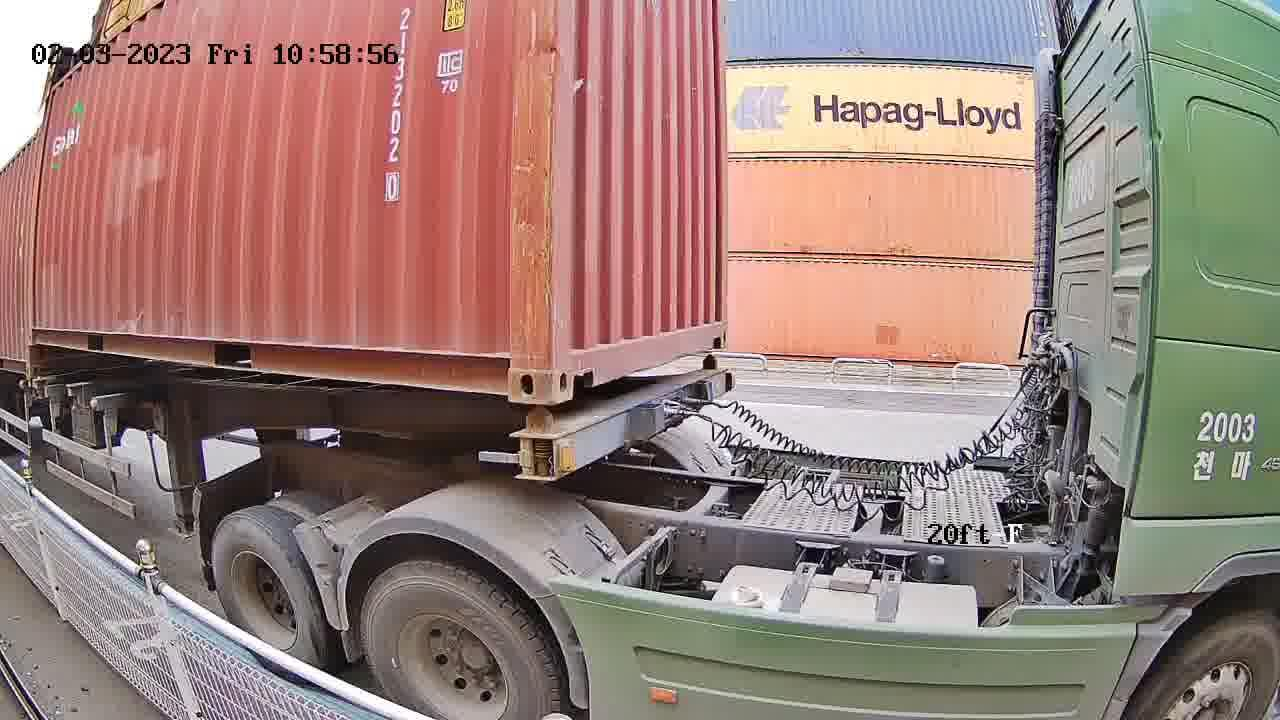Chassis: (513, 366, 731, 476)
Cone: (520, 411, 556, 477), (700, 355, 718, 372)
Hole_L: (550, 323, 601, 405), (707, 310, 729, 350)
Hole_R: (465, 325, 550, 402)
Tire: (362, 565, 557, 715), (214, 514, 323, 670)
